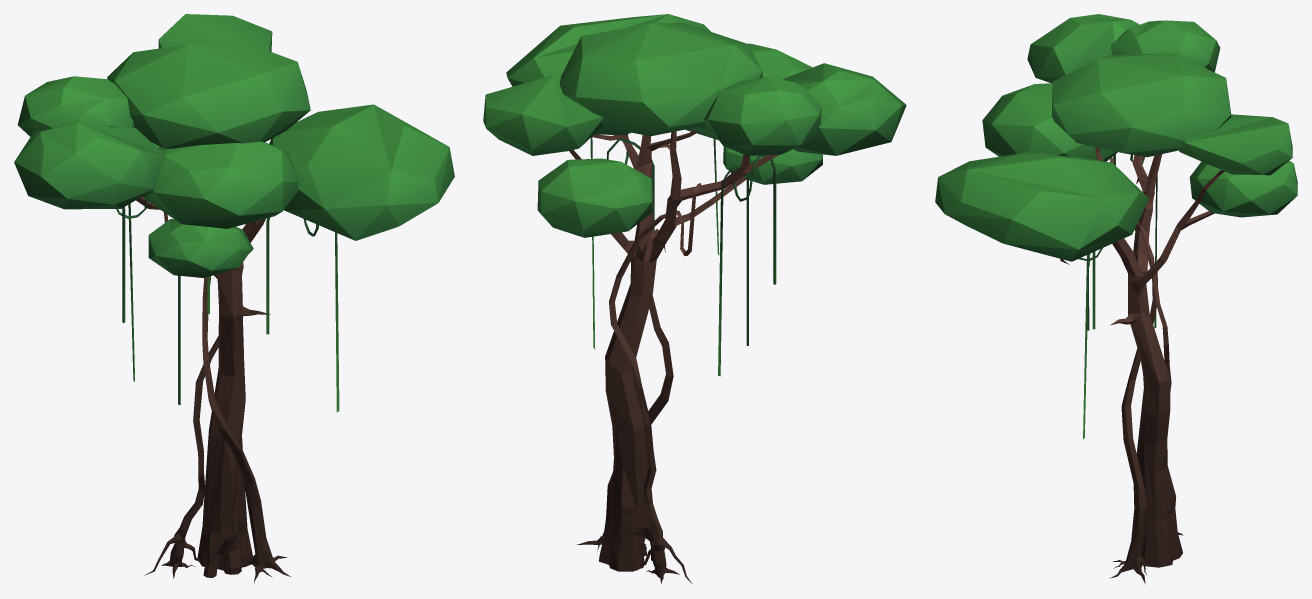
Rendered from ZLP_Plant_C_7.FBX.
The picture shows the model from 3 angles, left to right: view 1: azimuth 30°, elevation 25°; view 2: azimuth 150°, elevation 25°; view 3: azimuth 270°, elevation 25°; orthographic projection. The views are drawn at different scales.
Parts seen in each view (by area): view 1: ZLP_Plant_C_7; view 2: ZLP_Plant_C_7; view 3: ZLP_Plant_C_7.
Part boxes in pixels (bbox=[...]): ZLP_Plant_C_7: bbox=[14, 14, 454, 583]; ZLP_Plant_C_7: bbox=[483, 14, 906, 584]; ZLP_Plant_C_7: bbox=[935, 14, 1297, 584].
Size of the model in its own units: 814 by 1030 by 712.
